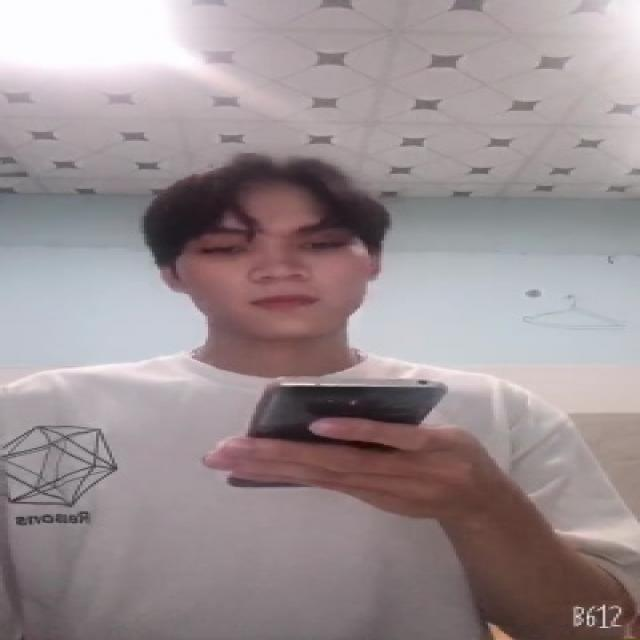Phone: (241, 372, 455, 442)
